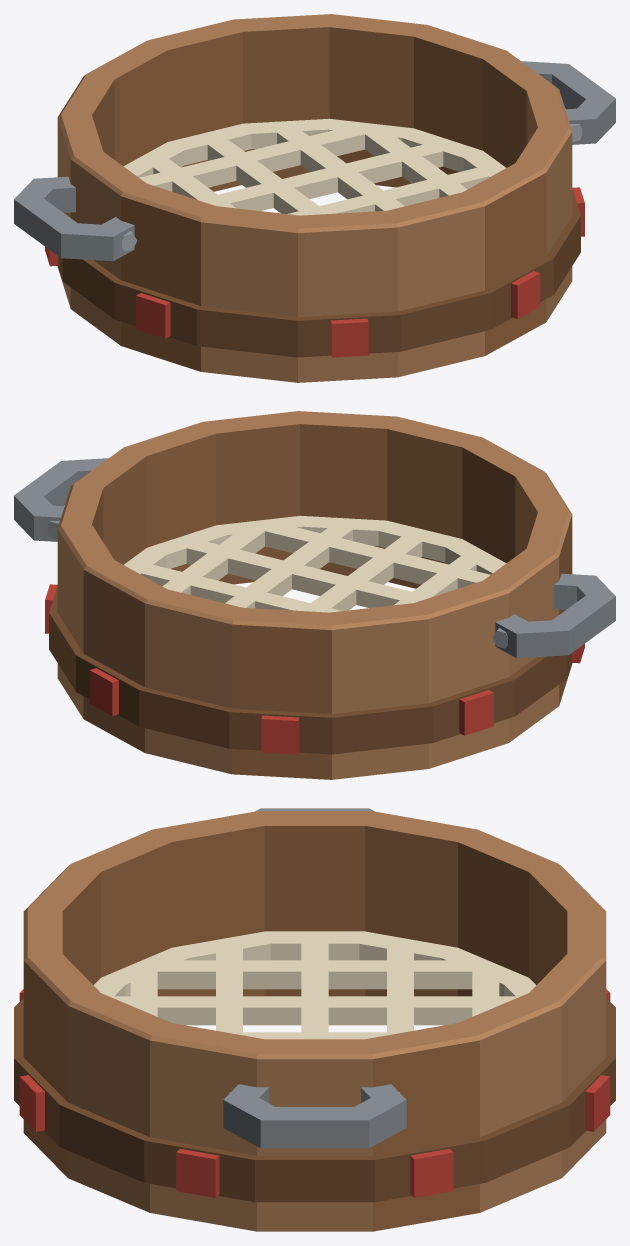
Rendered from FMS_Workshop_TOL_08.fbx.
3 views of the same model, one above another, from view 1: azimuth 30°, elevation 25°; view 2: azimuth 150°, elevation 25°; view 3: azimuth 270°, elevation 25° (orthographic). The views are drawn at different scales.
Visible parts, largest first — view 1: FMS_Workshop_TOL_08_Body; view 2: FMS_Workshop_TOL_08_Body; view 3: FMS_Workshop_TOL_08_Body.
Part boxes in pixels (x1,y1,x2,y2): FMS_Workshop_TOL_08_Body: (14, 14, 615, 382); FMS_Workshop_TOL_08_Body: (14, 411, 615, 779); FMS_Workshop_TOL_08_Body: (14, 808, 615, 1231).
Bounding box in the file's own units: 0.38 × 0.1 × 0.31.
